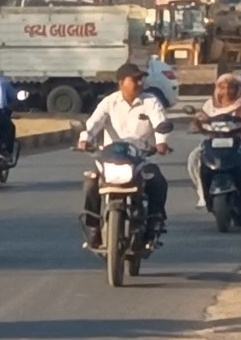BikeWithRider: (64, 60, 178, 289), (180, 68, 241, 236)
NoHelmet: (111, 60, 148, 98), (214, 71, 241, 105)
